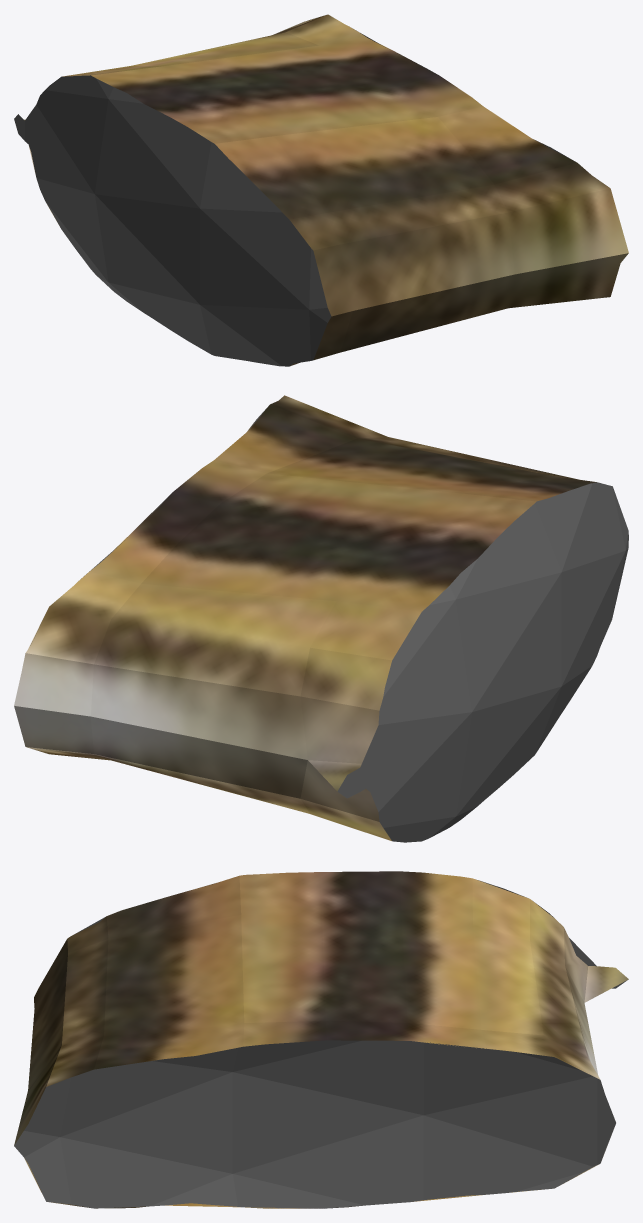
Rendered from link_12_composite.obj.
3 renders of one model, top to bottom at view 1: azimuth 30°, elevation 25°; view 2: azimuth 150°, elevation 25°; view 3: azimuth 270°, elevation 25°, orthographic. The views are drawn at different scales.
Bounding box in the file's own units: 0.00121 × 0.000728 × 0.0018.
Materials: 1 (1 with a texture image).
